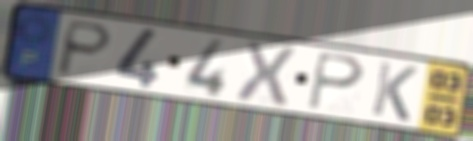4: (113, 26, 165, 91), (183, 36, 229, 99)
K: (368, 59, 421, 124)
P: (52, 18, 116, 79), (306, 50, 367, 112)
X: (233, 39, 299, 109)
